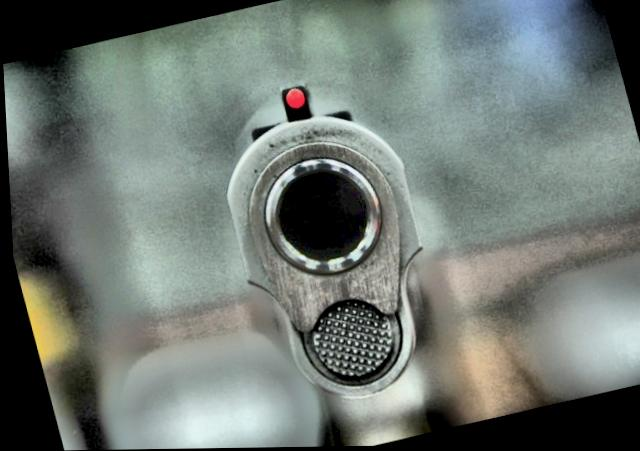pistol: (182, 33, 476, 449)
